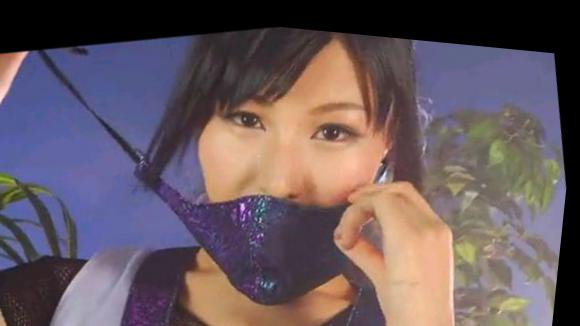WRONG: (166, 63, 414, 309)
